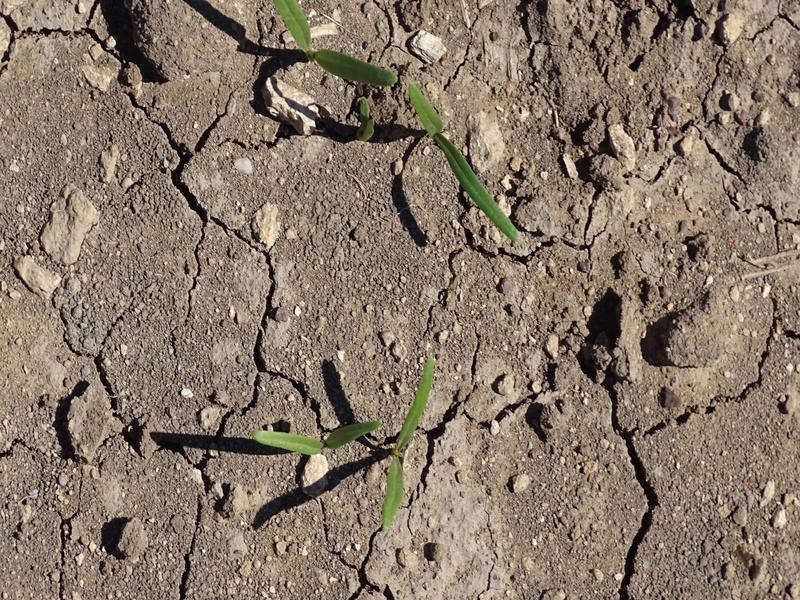Espinaca: (402, 81, 526, 246), (278, 6, 398, 89), (381, 357, 436, 523), (252, 415, 378, 463)
